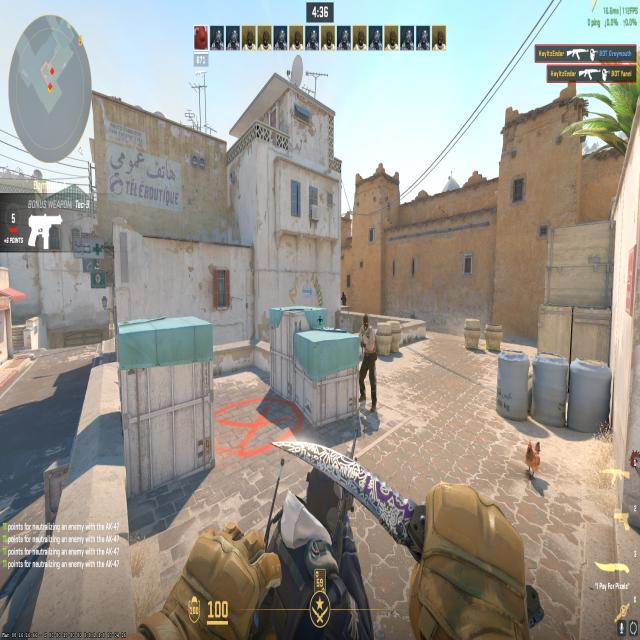ct: (340, 288, 348, 308)
t: (353, 310, 382, 418)
